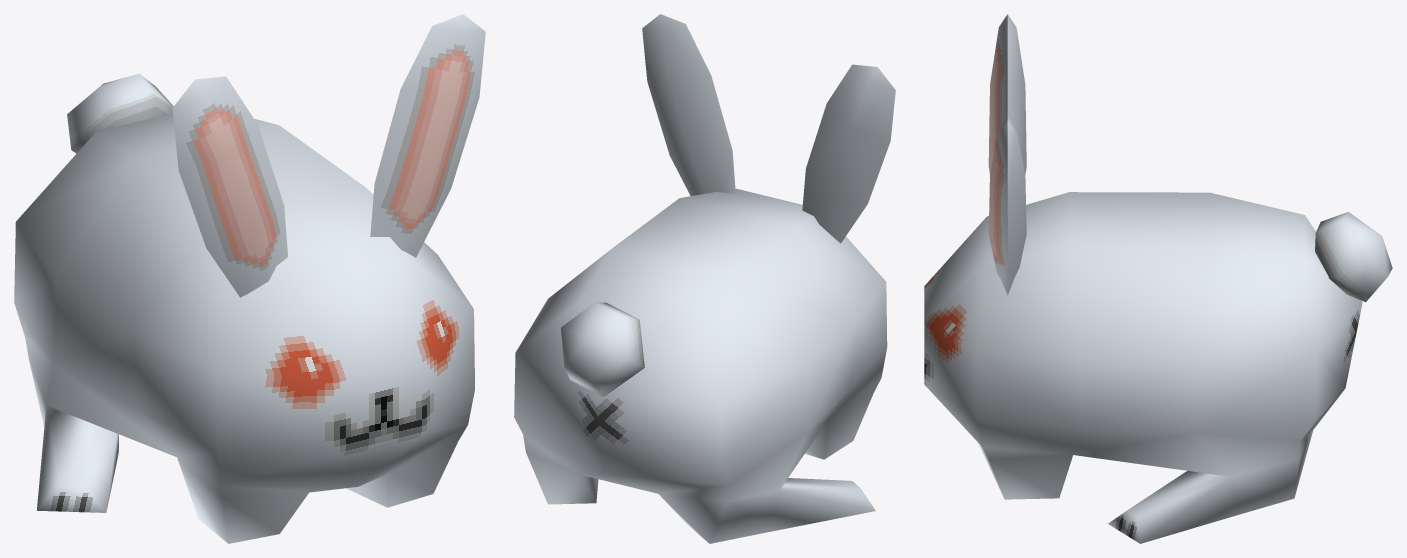
Rendered from bunny.obj.
3 views of the same model, side by side, from view 1: azimuth 30°, elevation 25°; view 2: azimuth 150°, elevation 25°; view 3: azimuth 270°, elevation 25° (orthographic). The views are drawn at different scales.
Visible parts, largest first — view 1: polygon0, polygon1; view 2: polygon1, polygon0; view 3: polygon1, polygon0.
Boxes of the visible parts, x1=… form: polygon0: x1=132, y1=14, x2=485, y2=498; polygon1: x1=14, y1=74, x2=458, y2=543; polygon1: x1=514, y1=198, x2=875, y2=543; polygon0: x1=642, y1=14, x2=895, y2=419; polygon1: x1=978, y1=192, x2=1392, y2=543; polygon0: x1=924, y1=14, x2=1080, y2=459.
Size of the model in its own units: 1.54 by 1.63 by 1.77.
